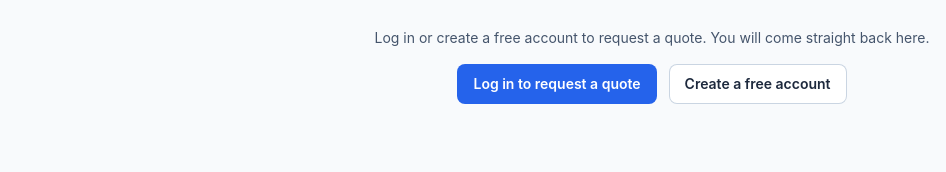
CustomerOnly › asks visitors to log in, and remembers where to come back to
This screenshot has width=946, height=172.
Click the button "Log in to request a quote" at [557, 84], box [458, 64, 657, 104]
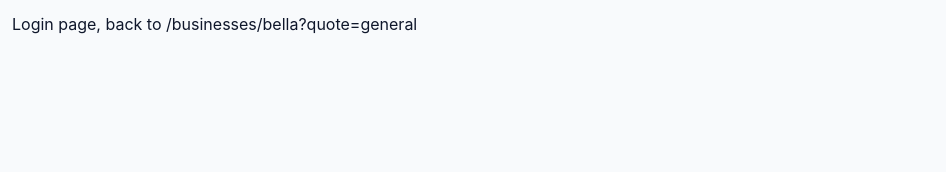
Expected: the text "Login page, back to /businesses/bella?quote=general" is shown, [12, 14, 417, 34]
